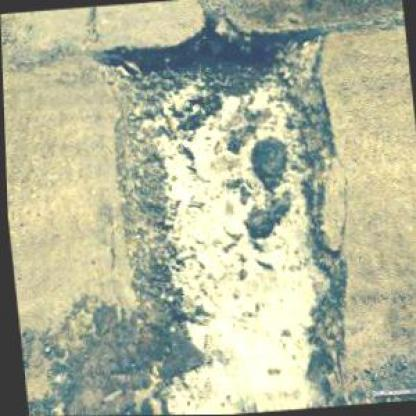pothole: (80, 9, 369, 414)
